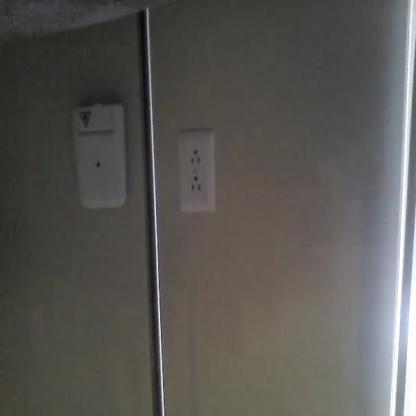OUTLET: (176, 130, 216, 212)
